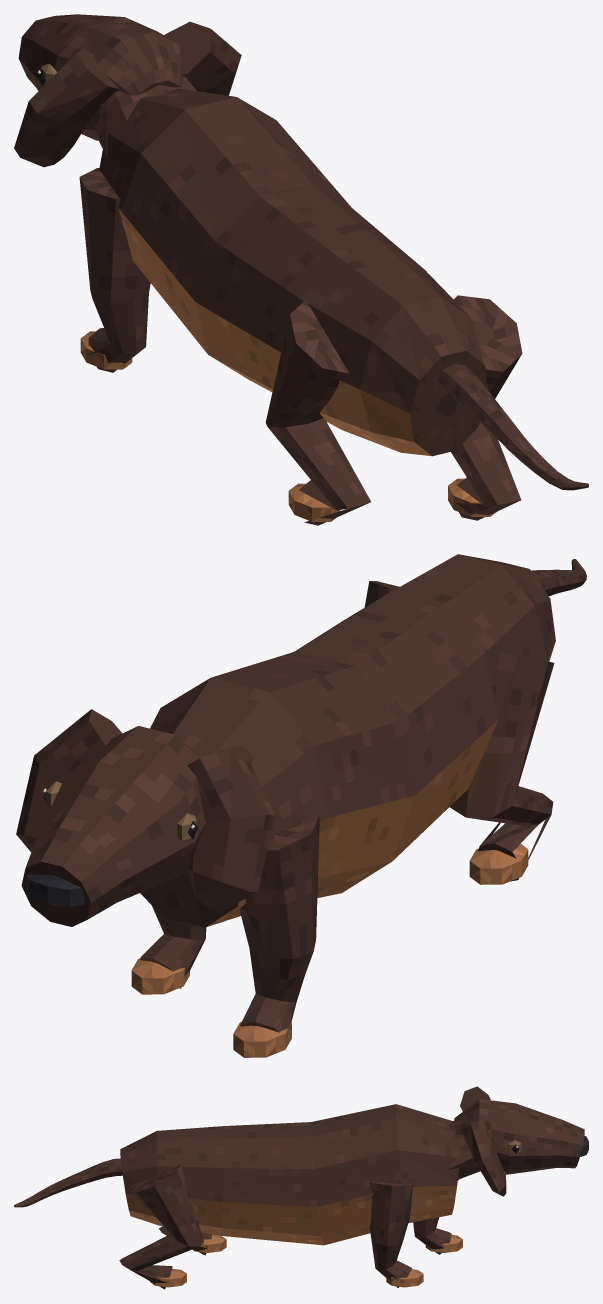
The model's file is mon_dog_dachshund.glb.
The picture shows the model from 3 angles, top to bottom: view 1: azimuth 30°, elevation 25°; view 2: azimuth 150°, elevation 25°; view 3: azimuth 270°, elevation 25°; orthographic projection. The views are drawn at different scales.
Visible parts, largest first — view 1: closed_body; view 2: closed_body; view 3: closed_body.
Part boxes in pixels (left/top/right/bottom): closed_body: left=14, top=14, right=588, bottom=525; closed_body: left=16, top=554, right=586, bottom=1057; closed_body: left=14, top=1086, right=588, bottom=1289.
Bounding box in the file's own units: 0.2601 × 0.3515 × 1.09.
1 material, 1 textured.
